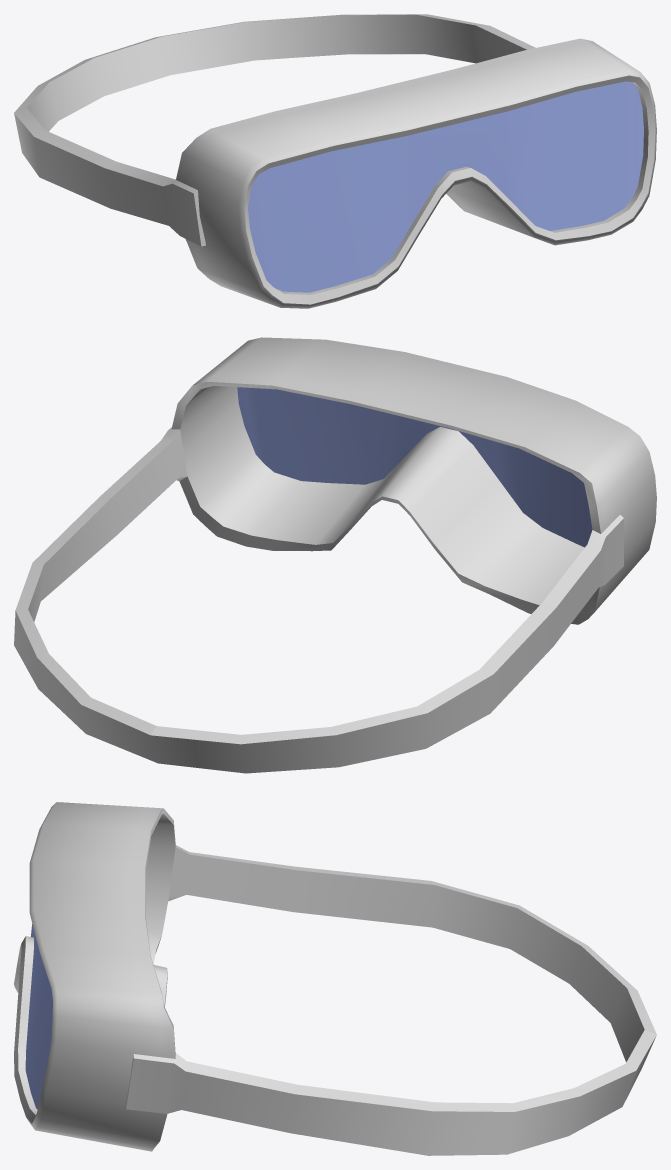
File: Goggles.fbx
3 views of the same model, one above another, from view 1: azimuth 30°, elevation 25°; view 2: azimuth 150°, elevation 25°; view 3: azimuth 270°, elevation 25° (orthographic). The views are drawn at different scales.
Parts seen in each view (by area): view 1: Goggles; view 2: Goggles; view 3: Goggles.
Boxes of the visible parts, bbox=[...] form: Goggles: bbox=[14, 14, 656, 308]; Goggles: bbox=[14, 337, 656, 773]; Goggles: bbox=[14, 802, 656, 1155].
Bounding box in the file's own units: 0.2091 × 0.0777 × 0.2445.
